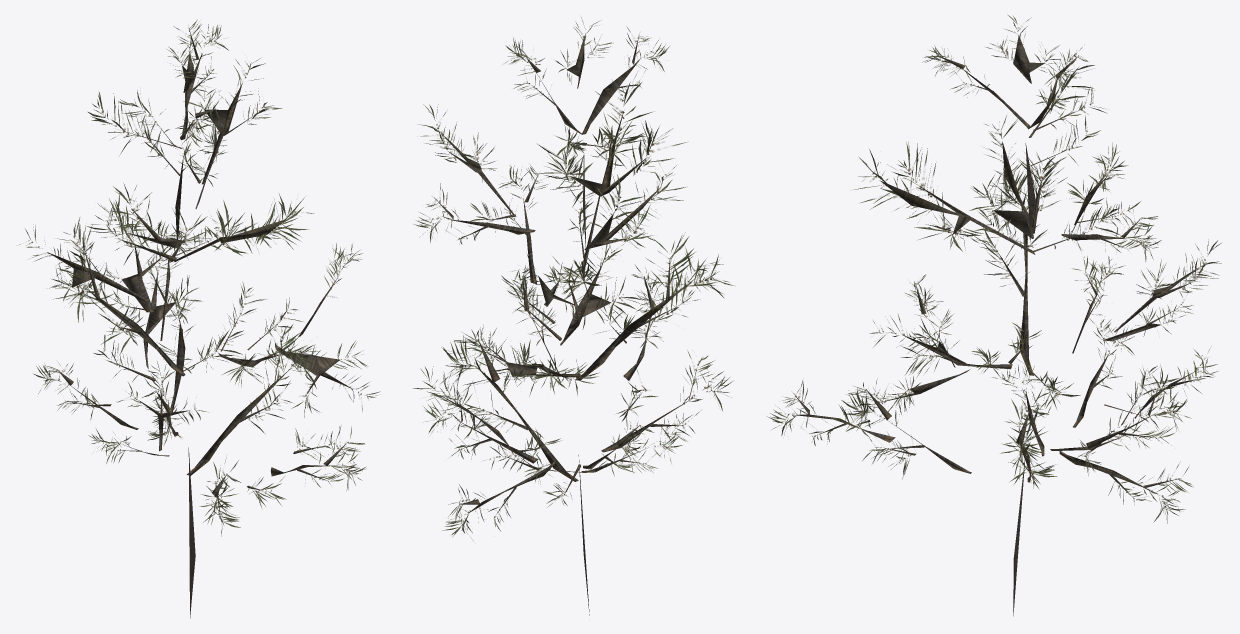
File: trackside-pine.glb
3 renders of one model, left to right at view 1: azimuth 30°, elevation 25°; view 2: azimuth 150°, elevation 25°; view 3: azimuth 270°, elevation 25°, orthographic. The views are drawn at different scales.
Parts seen in each view (by area): view 1: pine_sapling_small_b; view 2: pine_sapling_small_b; view 3: pine_sapling_small_b.
Part boxes in pixels (<box>): pine_sapling_small_b: <box>19,19,380,618</box>; pine_sapling_small_b: <box>412,17,735,615</box>; pine_sapling_small_b: <box>766,14,1221,616</box>.
Bounding box in the file's own units: 0.4896 × 0.9915 × 0.6854.
Materials: 2 (2 with a texture image).
